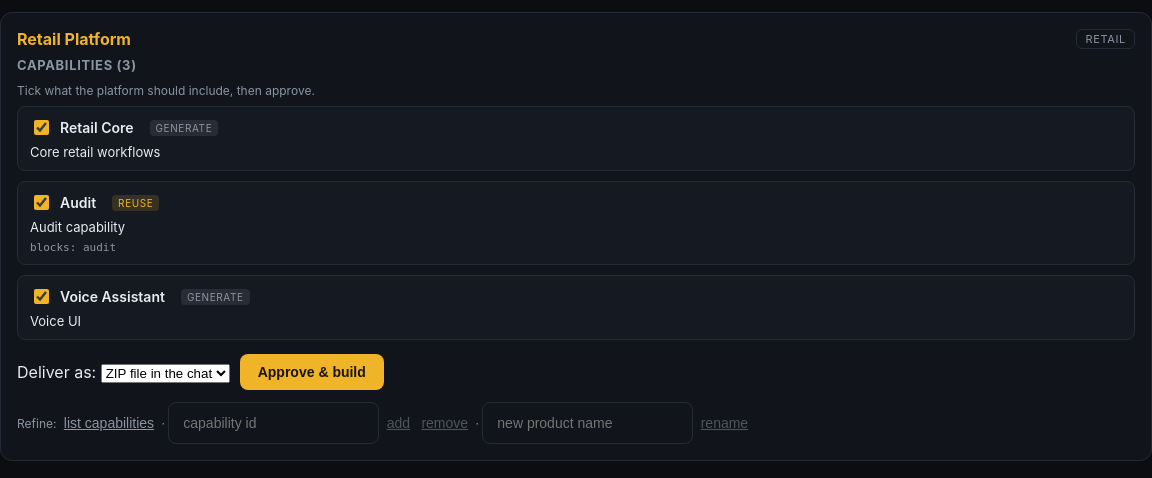
Test case: BlueprintCard capability picker › zero selection disables the approve button
Click the checkbox labelled "Retail Core GENERATE" at (42, 128), box [34,120,49,135]
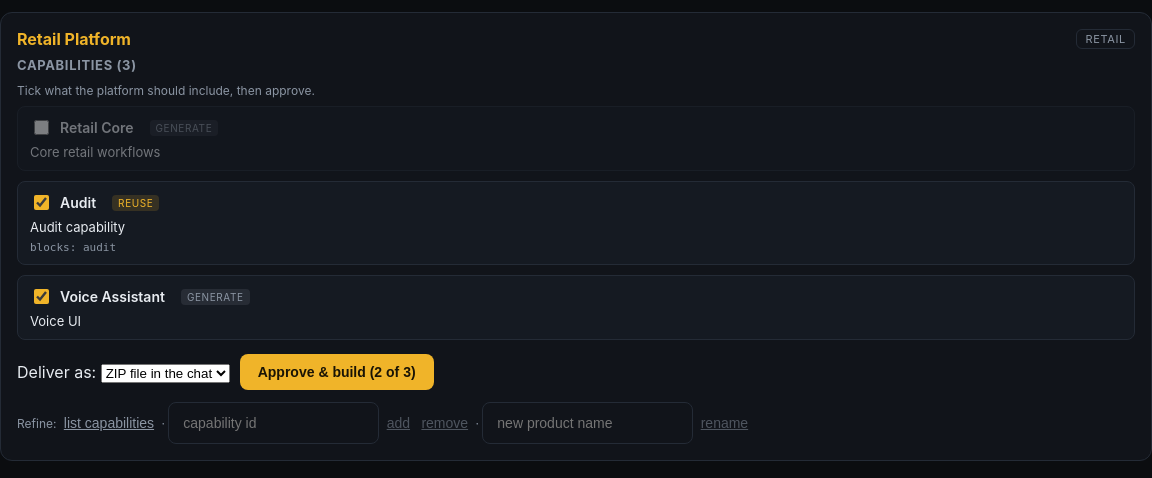
Click the checkbox labelled "Audit REUSE" at (42, 202), box [34,195,49,210]
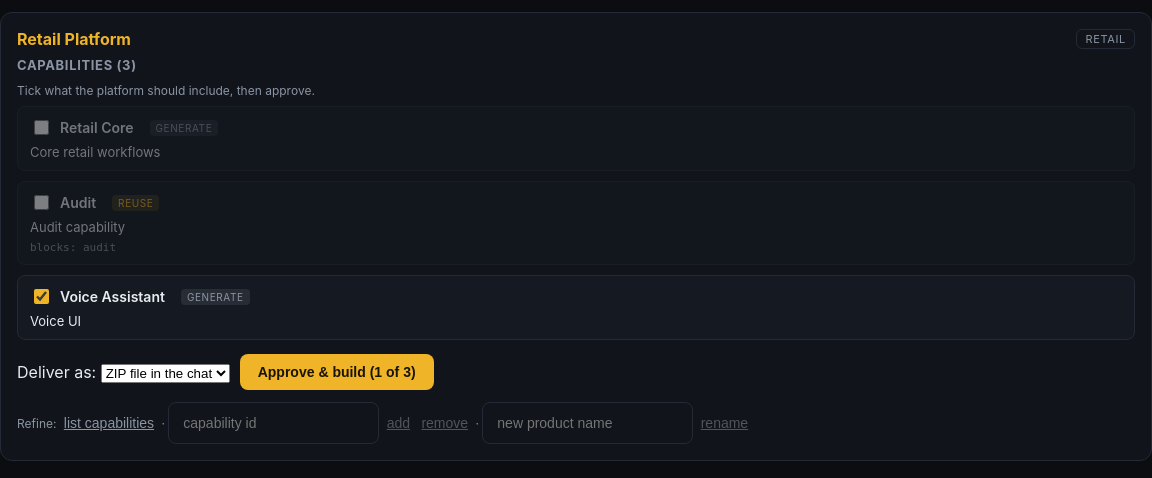
Click the checkbox labelled "Voice Assistant GENERATE" at (42, 296), box [34,289,49,304]
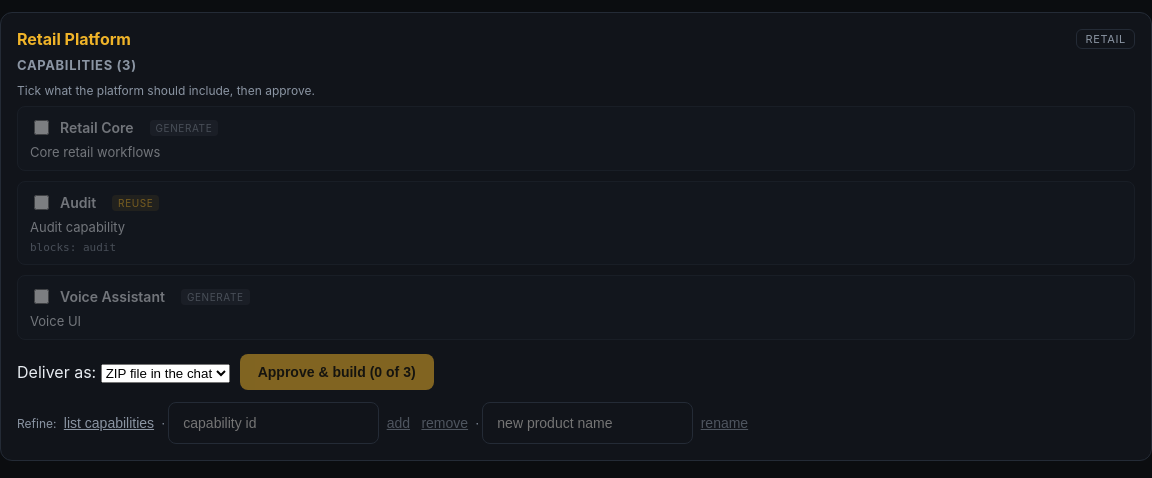
Check: the button "Approve & build (0 of 3)" is disabled, box [240,354,434,390]
